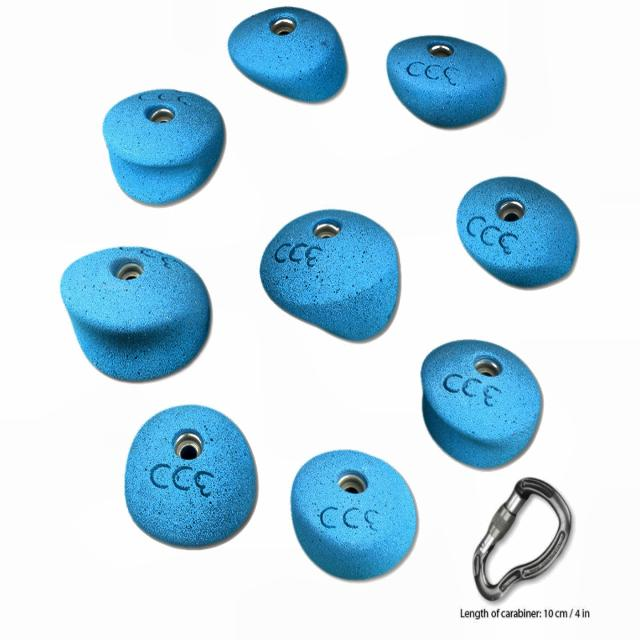Hold: (61, 246, 213, 382), (258, 209, 405, 342), (124, 405, 257, 550), (419, 338, 544, 471), (290, 452, 418, 581), (101, 88, 225, 210), (450, 176, 580, 288), (227, 7, 350, 105), (386, 33, 505, 130)
